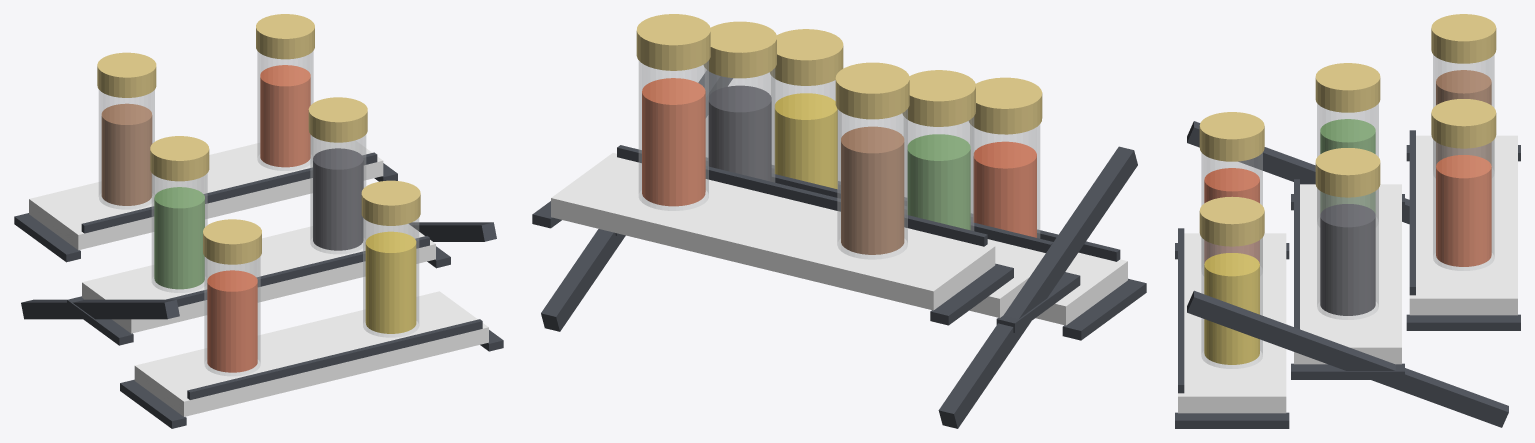
Rendered from spice_rack_organizer.glb.
3 renders of one model, left to right at view 1: azimuth 30°, elevation 25°; view 2: azimuth 150°, elevation 25°; view 3: azimuth 270°, elevation 25°, orthographic. The views are drawn at different scales.
Parts seen in each view (by area): view 1: Modern_Shelf_1, Modern_Shelf_3, Modern_Shelf_2, Modern_Jar_1, Modern_Jar_2, Modern_Jar_5, Modern_Jar_3, Modern_Jar_6, Modern_Jar_4, Modern_Spice_2, Modern_Spice_1, Modern_Spice_5 (+17 smaller); view 2: Modern_Shelf_3, Modern_Jar_5, Modern_Jar_6, Side_Frame_-0.13, Modern_Spice_6, Modern_Spice_5, Modern_Jar_3, Modern_Jar_1, Modern_Jar_4, Modern_Jar_2, Modern_Spice_3, Modern_Spice_4 (+17 smaller); view 3: Modern_Shelf_3, Modern_Shelf_1, Modern_Shelf_2, Modern_Jar_6, Modern_Jar_4, Side_Frame_0.13, Modern_Jar_2, Modern_Spice_4, Modern_Spice_6, Modern_Spice_2, Modern_Cap_6, Modern_Cap_2 (+17 smaller).
Boxes of the visible parts, box(x1,y1,x2,y2) form: Modern_Shelf_1: box(134, 291, 488, 416); Modern_Shelf_3: box(29, 135, 383, 250); Modern_Shelf_2: box(82, 219, 435, 333); Modern_Jar_1: box(204, 256, 260, 376); Modern_Jar_2: box(363, 218, 419, 337); Modern_Jar_5: box(98, 90, 154, 209); Modern_Jar_3: box(151, 173, 207, 292); Modern_Jar_6: box(257, 51, 313, 170); Modern_Jar_4: box(310, 134, 366, 254); Modern_Spice_2: box(365, 231, 416, 333); Modern_Spice_1: box(207, 270, 257, 372); Modern_Spice_5: box(101, 103, 152, 205); Modern_Shelf_3: box(551, 153, 995, 310); Modern_Jar_5: box(837, 109, 907, 259); Modern_Jar_6: box(638, 60, 708, 210); Side_Frame_-0.13: box(938, 146, 1137, 428); Modern_Spice_6: box(642, 78, 705, 206); Modern_Spice_5: box(841, 126, 904, 254); Modern_Jar_3: box(904, 117, 974, 230); Modern_Jar_1: box(970, 124, 1040, 238); Modern_Jar_4: box(705, 68, 775, 182); Modern_Jar_2: box(771, 76, 841, 189); Modern_Spice_3: box(907, 134, 970, 230); Modern_Spice_4: box(708, 85, 771, 181); Modern_Shelf_3: box(1409, 135, 1517, 315); Modern_Shelf_1: box(1178, 233, 1286, 413); Modern_Shelf_2: box(1294, 184, 1401, 364); Modern_Jar_6: box(1433, 139, 1494, 270); Modern_Jar_4: box(1317, 188, 1378, 319); Side_Frame_0.13: box(1187, 290, 1508, 427); Modern_Jar_2: box(1201, 237, 1262, 368); Modern_Spice_4: box(1320, 204, 1375, 315); Modern_Spice_6: box(1436, 155, 1491, 266); Modern_Spice_2: box(1204, 253, 1259, 364); Modern_Cap_6: box(1431, 99, 1496, 148); Modern_Cap_2: box(1199, 196, 1264, 246).
Size of the model in its own units: 0.272 by 0.193 by 0.224.
